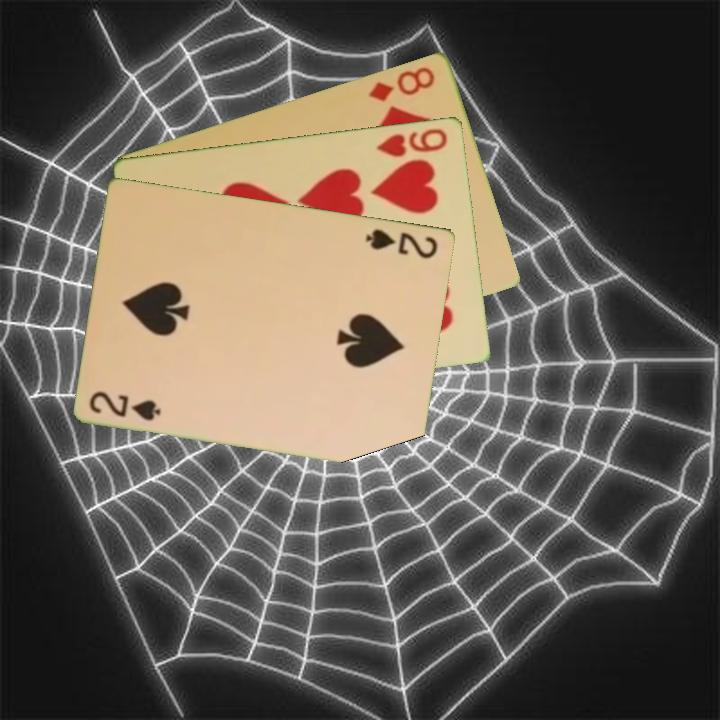2s: (363, 224, 441, 262), (86, 387, 165, 423)
8d: (365, 62, 438, 104)
9h: (373, 124, 451, 160)
